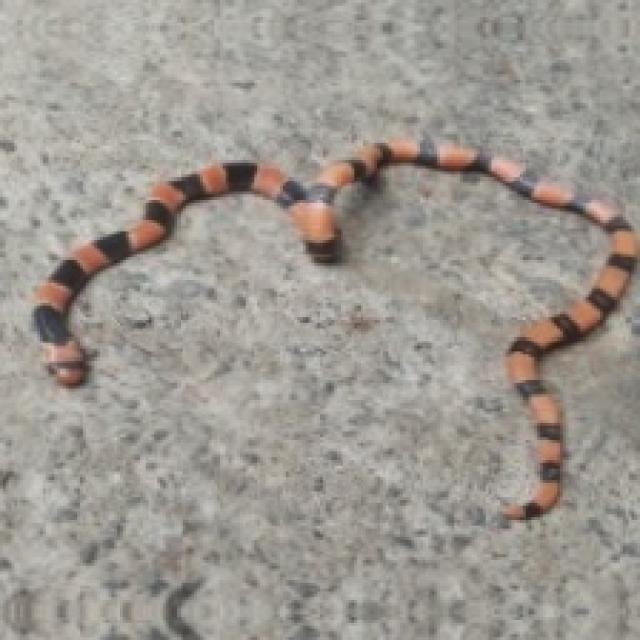barredcoral snake: (31, 137, 637, 517)
